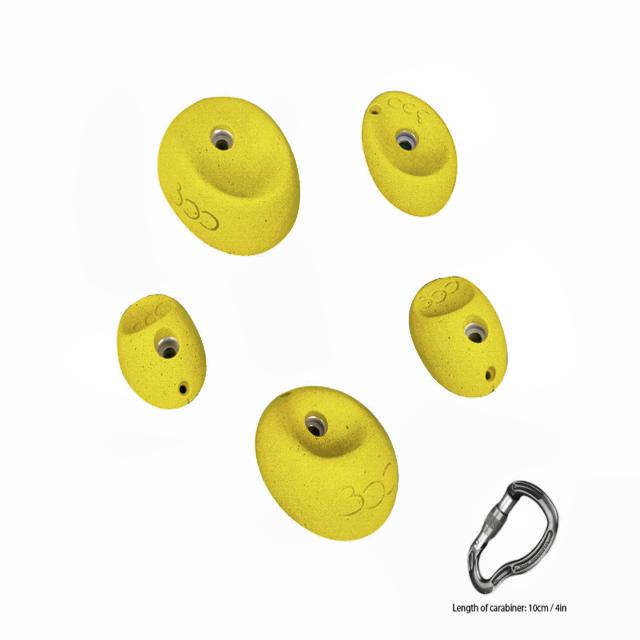Hold: (251, 374, 407, 554), (160, 93, 303, 256), (408, 279, 515, 401), (363, 93, 465, 219), (118, 292, 212, 413)
